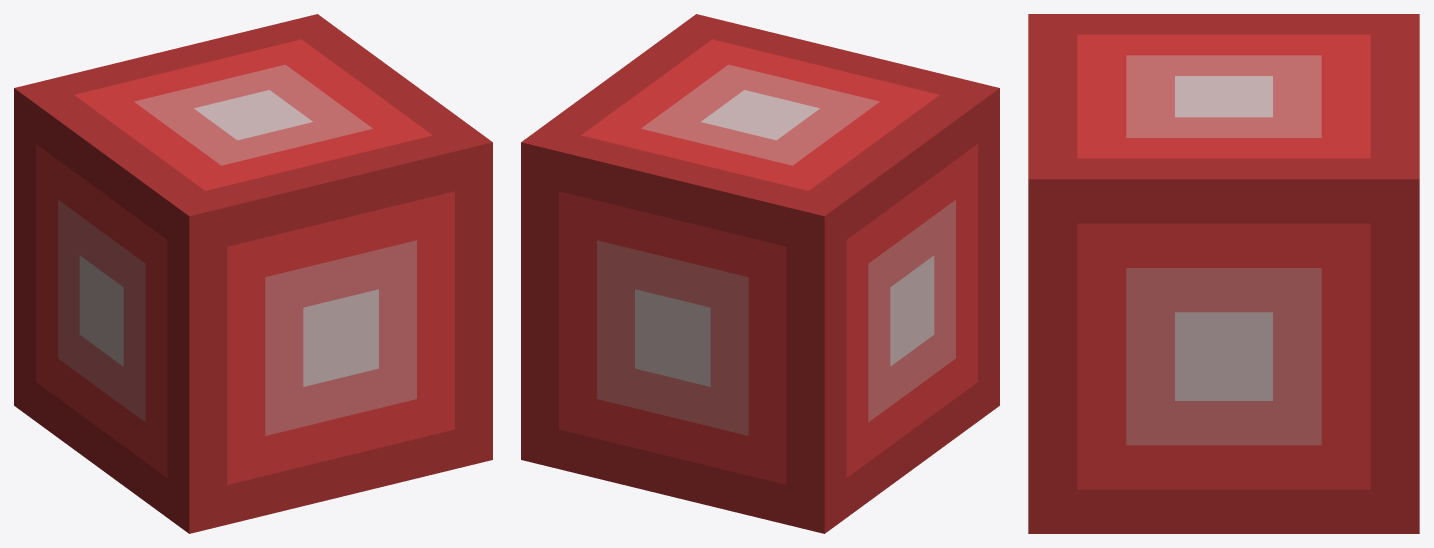
The model's file is Red Gem.fbx.
3 renders of one model, left to right at view 1: azimuth 30°, elevation 25°; view 2: azimuth 150°, elevation 25°; view 3: azimuth 270°, elevation 25°, orthographic. The views are drawn at different scales.
Visible parts, largest first — view 1: Red Gem; view 2: Red Gem; view 3: Red Gem.
Part boxes in pixels (x1,y1,x2,y2): Red Gem: (14,14,492,533); Red Gem: (521,14,999,533); Red Gem: (1028,14,1419,533).
Bounding box in the file's own units: 0.16 × 0.16 × 0.16.
Materials: 1 (1 with a texture image).
